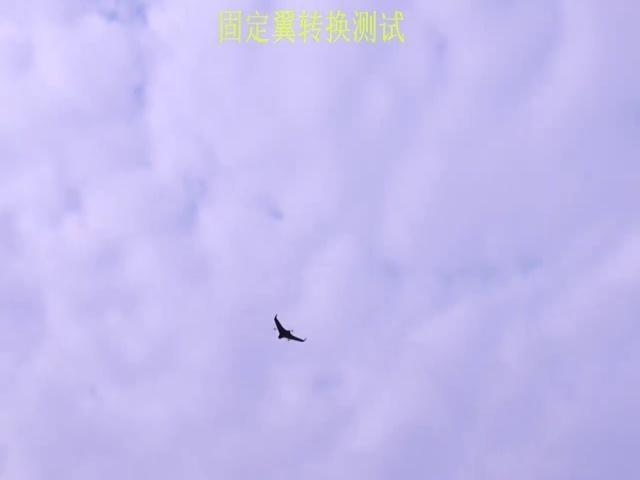Airplane: (274, 314, 306, 343)
